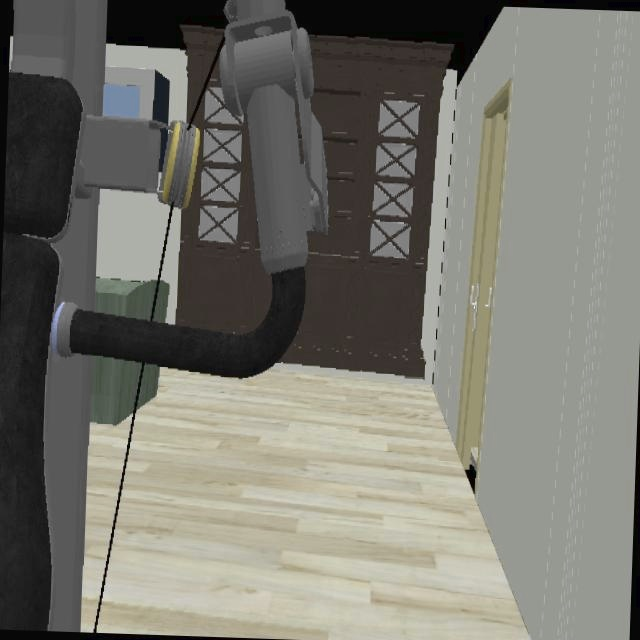bookshelf: (280, 35, 454, 378), (175, 24, 270, 336)
cabinet: (103, 67, 168, 125)
sofa: (92, 260, 175, 324), (89, 356, 157, 427)
